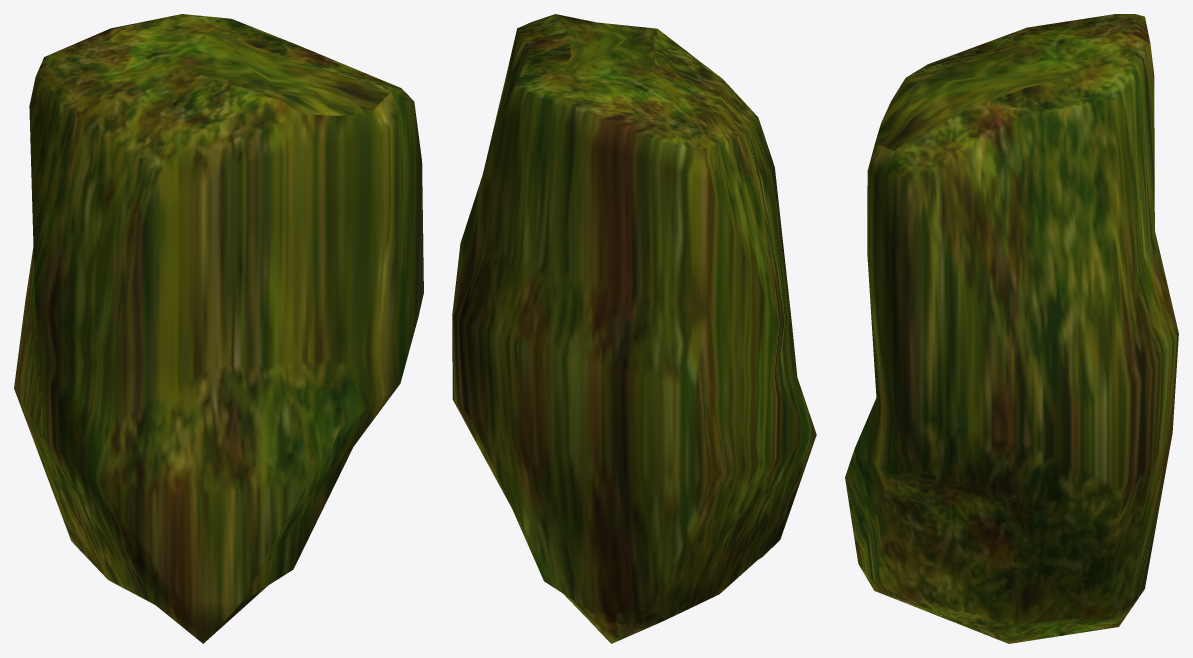
Rendered from LVL_ROAST_MUTTON_ROCK05.fbx.
The picture shows the model from 3 angles, left to right: view 1: azimuth 30°, elevation 25°; view 2: azimuth 150°, elevation 25°; view 3: azimuth 270°, elevation 25°; orthographic projection. The views are drawn at different scales.
Visible parts, largest first — view 1: LVL_ROAST_MUTTON_ROCK05; view 2: LVL_ROAST_MUTTON_ROCK05; view 3: LVL_ROAST_MUTTON_ROCK05.
Boxes of the visible parts, x1,y1,x2,y2 form: LVL_ROAST_MUTTON_ROCK05: (14, 14, 423, 643); LVL_ROAST_MUTTON_ROCK05: (452, 14, 816, 643); LVL_ROAST_MUTTON_ROCK05: (845, 14, 1178, 643).
Bounding box in the file's own units: 45763 × 72002 × 36082.
Materials: 1 (1 with a texture image).
